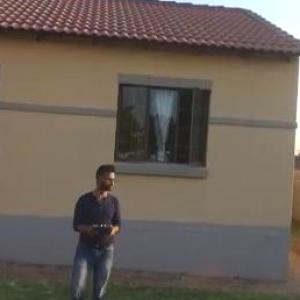follow: (68, 166, 135, 299)
